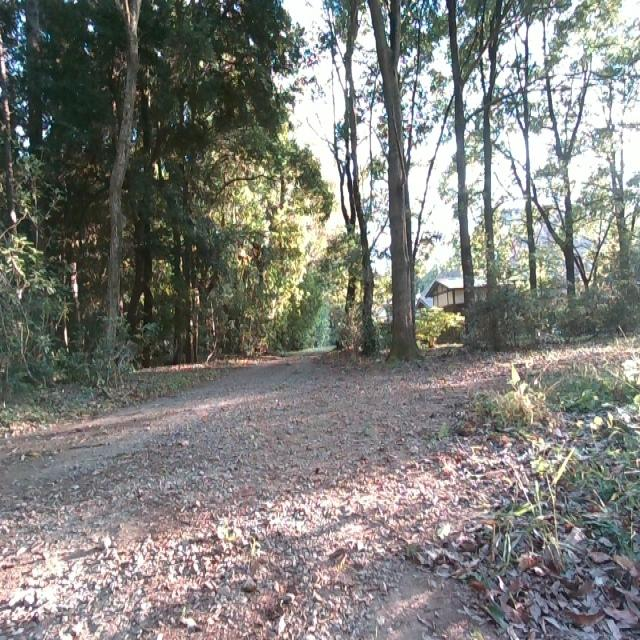tree: (367, 0, 418, 360), (102, 0, 140, 368), (541, 0, 580, 330), (446, 0, 476, 349), (483, 0, 501, 340)
